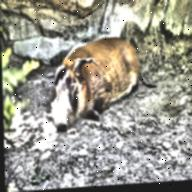boar: (48, 31, 159, 132)
